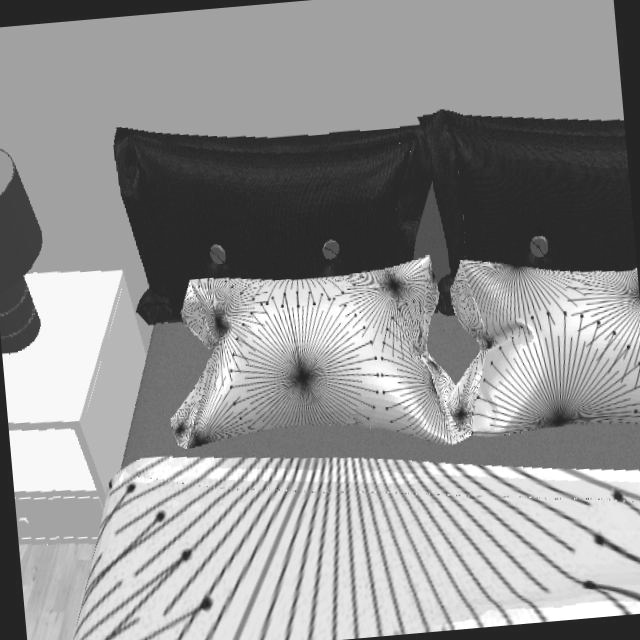bed: (73, 111, 640, 640)
lamp: (0, 147, 43, 355)
nighttable: (2, 272, 150, 543)
pillow: (169, 257, 640, 451)
